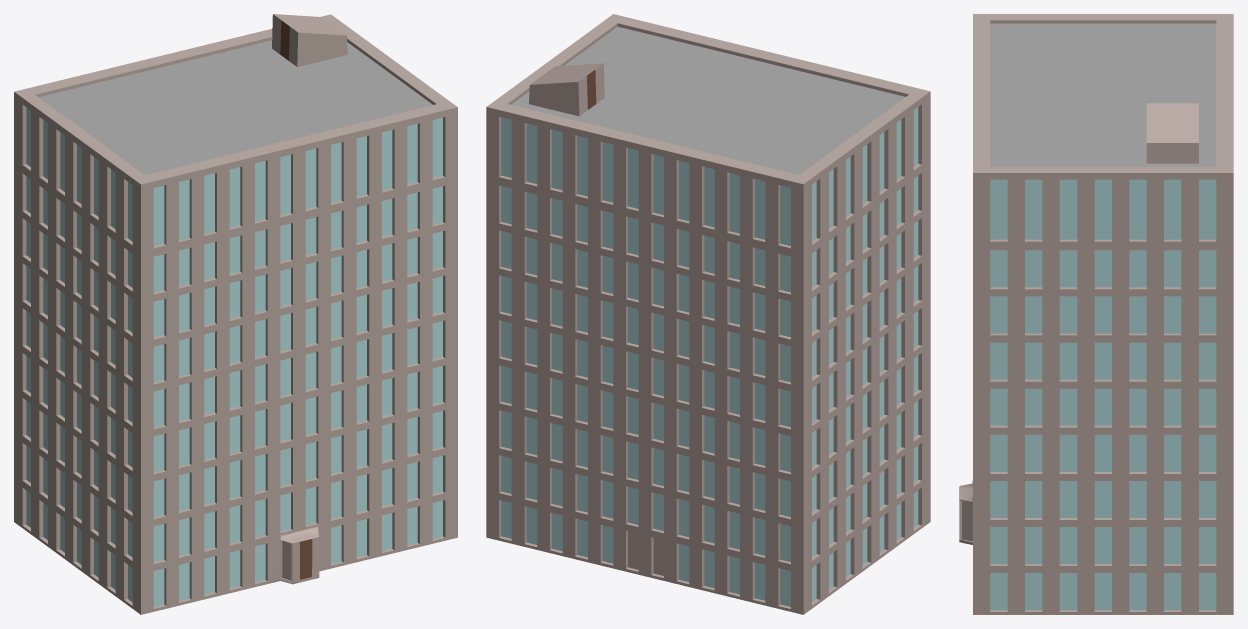
The model's file is building1.fbx.
The picture shows the model from 3 angles, left to right: view 1: azimuth 30°, elevation 25°; view 2: azimuth 150°, elevation 25°; view 3: azimuth 270°, elevation 25°; orthographic projection. The views are drawn at different scales.
Visible parts, largest first — view 1: pCube2; view 2: pCube2; view 3: pCube2.
Boxes of the visible parts, <box> form: pCube2: <box>14,14,457,614</box>; pCube2: <box>486,14,930,614</box>; pCube2: <box>959,14,1233,614</box>.
Size of the model in its own units: 31.72 by 44.14 by 23.15.
